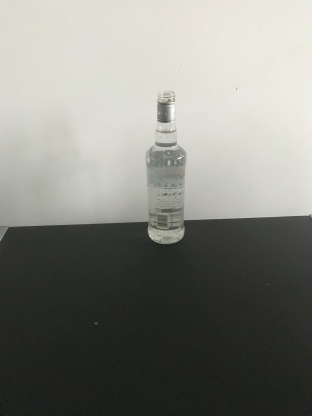nakretka: (155, 88, 177, 124)
